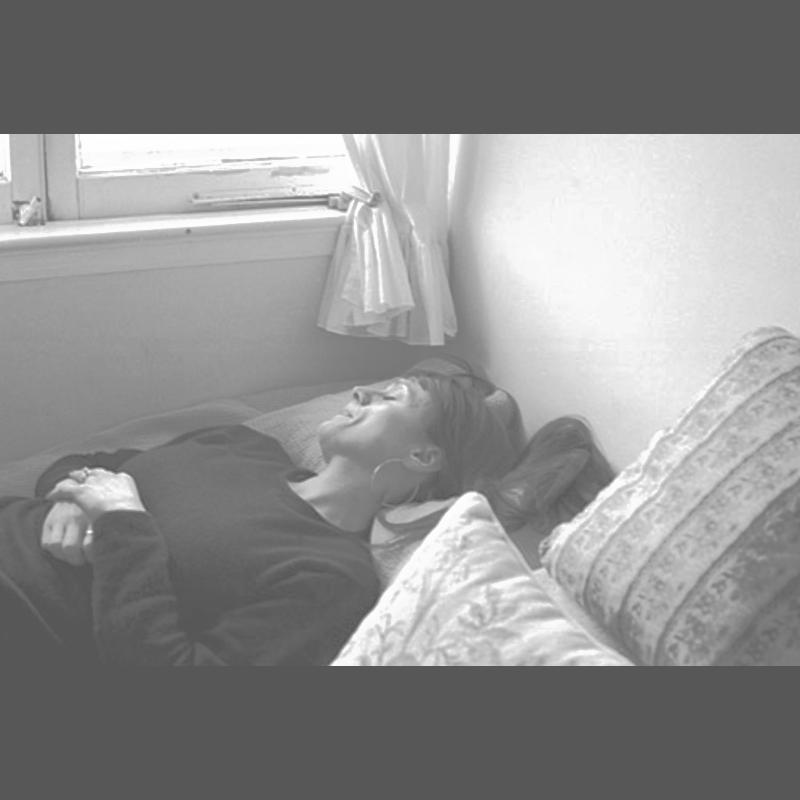pillow: (540, 333, 800, 667), (320, 493, 640, 665)
